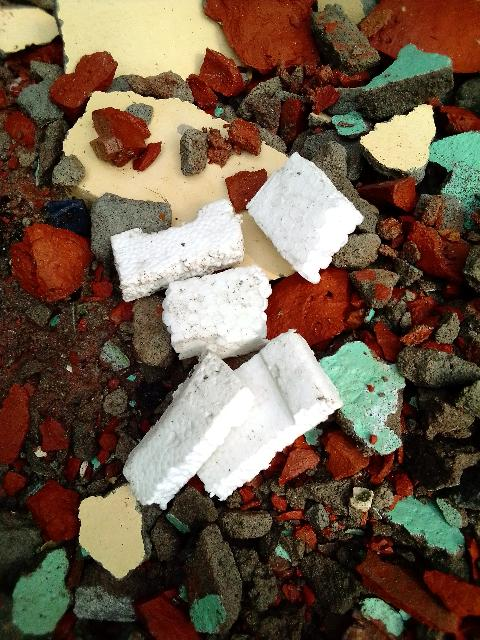cocksheet: (159, 322, 345, 495), (119, 354, 243, 498), (240, 151, 358, 271), (112, 202, 249, 292), (167, 272, 264, 343)
